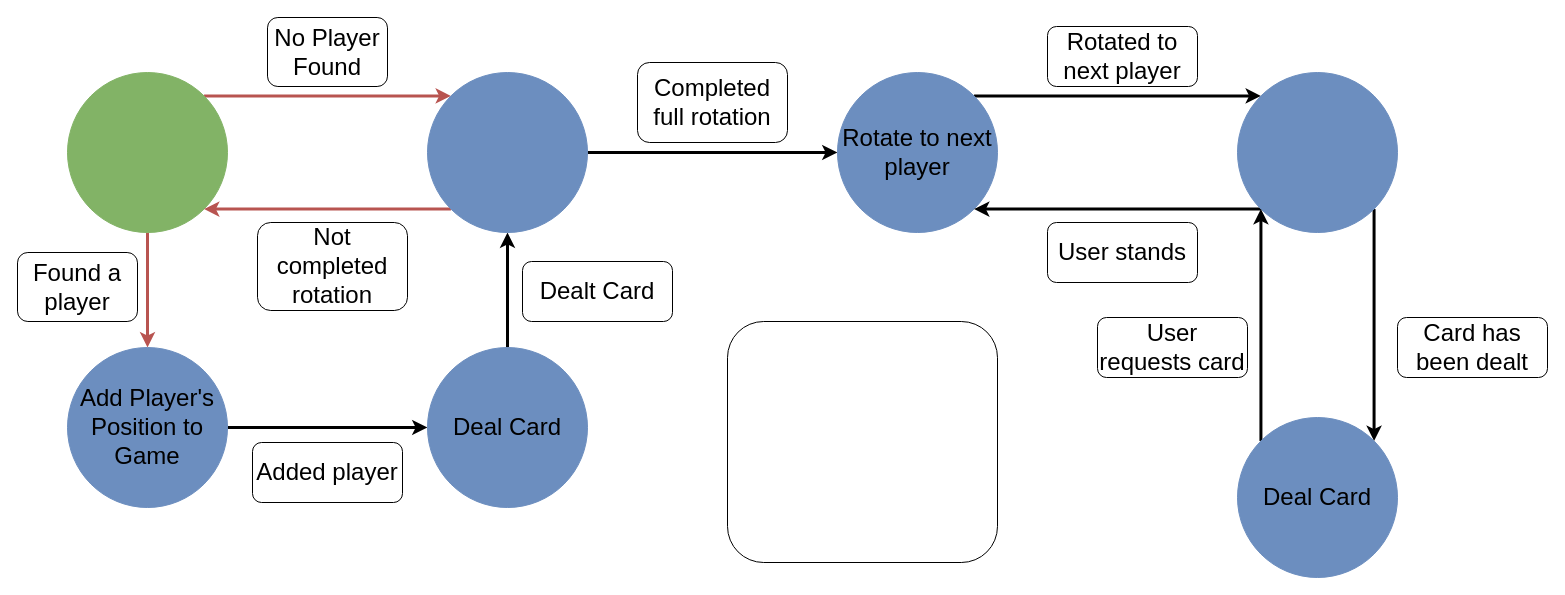
This 1565x595 diagram has some shape labels left out. Each missing label, with the box of its shape:
Key Run on Arduino Run on Raspberry Pi Communicated over Serial: (726, 320, 998, 562)
Look for Face (start step): (66, 72, 228, 232)
Rotate to next position: (426, 72, 588, 232)
Wait for user input (End state): (1236, 72, 1398, 232)
